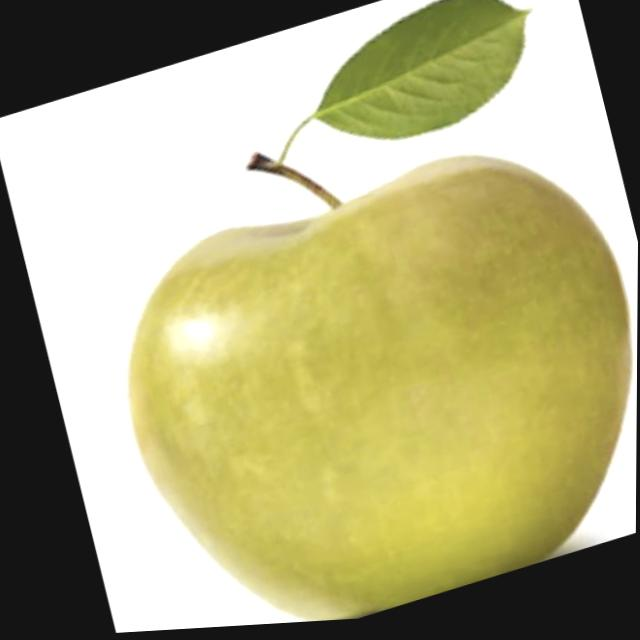Apple: (74, 58, 639, 636)
